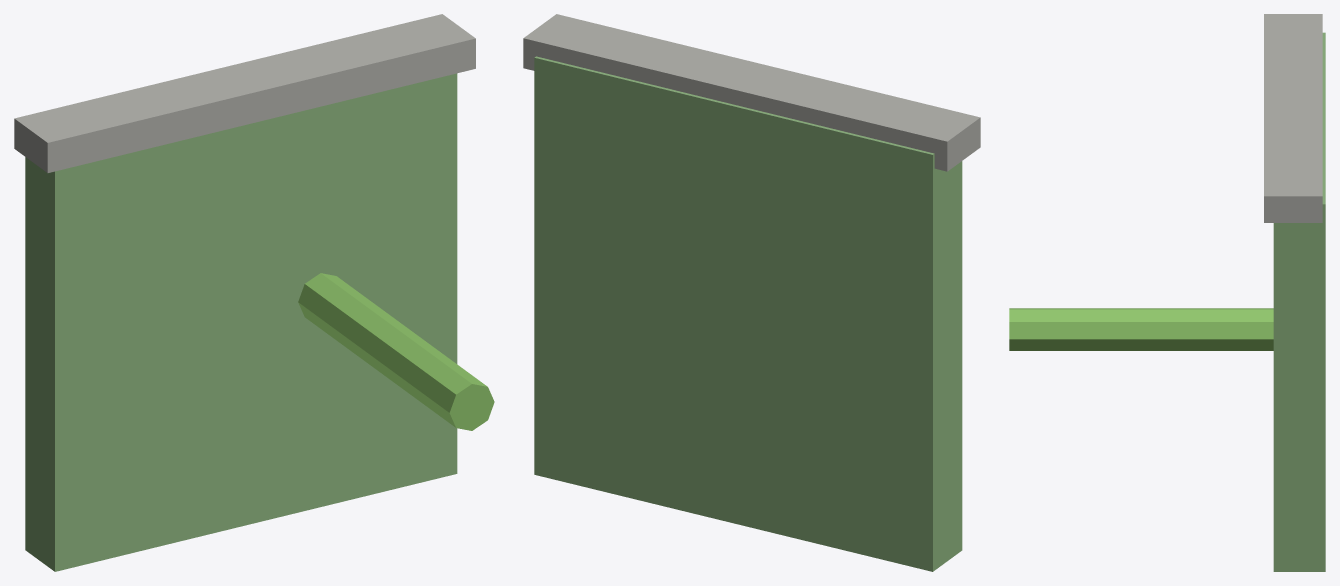
The model's file is 26_Tre.glb.
3 views of the same model, side by side, from view 1: azimuth 30°, elevation 25°; view 2: azimuth 150°, elevation 25°; view 3: azimuth 270°, elevation 25° (orthographic). The views are drawn at different scales.
Visible parts, largest first — view 1: base, edge, bamboo; view 2: base, edge; view 3: base, edge, bamboo.
Part boxes in pixels (box(x1,y1,x2,y2)): base: box(25, 73, 457, 571); edge: box(14, 14, 475, 172); bamboo: box(298, 273, 494, 430); base: box(534, 56, 962, 571); edge: box(523, 14, 980, 171); base: box(1273, 32, 1325, 571); edge: box(1264, 14, 1322, 222); bamboo: box(1009, 308, 1273, 350).
Bounding box in the file's own units: 1.33 × 1.3 × 0.975.
